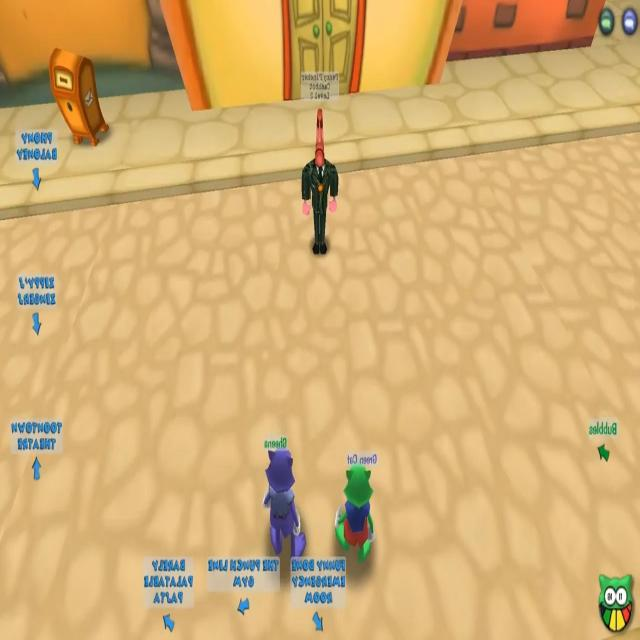pennypincher: (300, 111, 340, 257)
